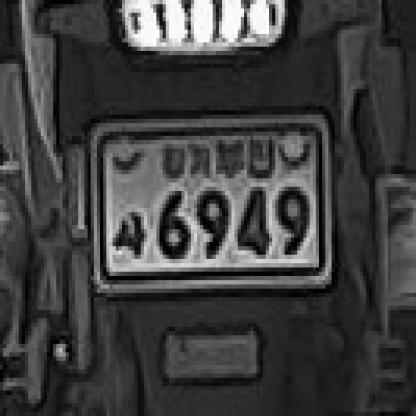bnum: (79, 113, 345, 304)
